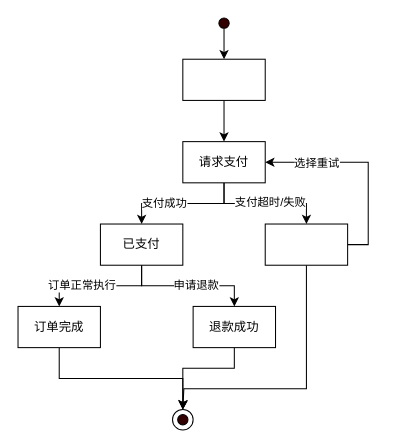
This 394x448 diagram has some shape labels left out. Each missing label, with the box of its shape:
支付失败: (264, 223, 348, 265)
订单创建: (182, 58, 265, 100)
